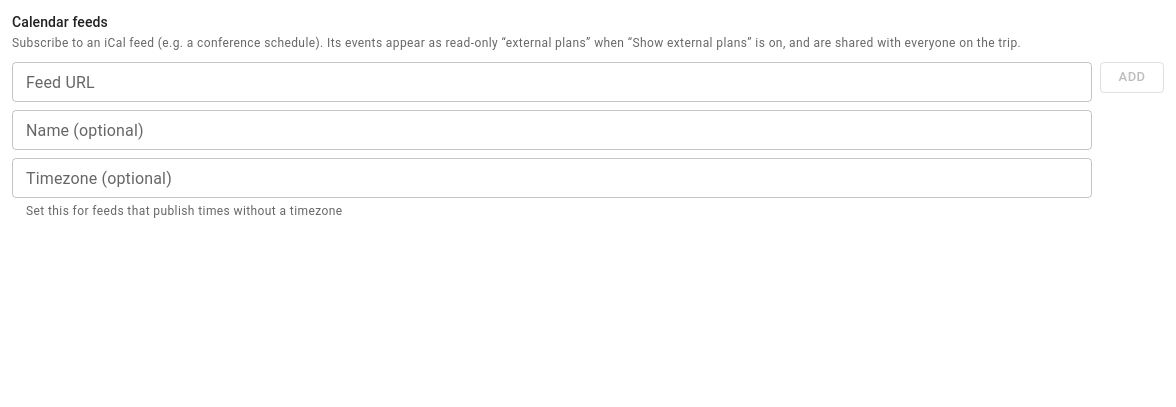
Test: TripFeedsEditor › adds a feed, appends it and clears the inputs
Expected: the button "Add" is disabled, x1=1100 y1=62 x2=1164 y2=93
Type "  https://new/c.ics  " into the field labelled "Feed URL" at point(552, 82), box x1=12 y1=62 x2=1092 y2=102
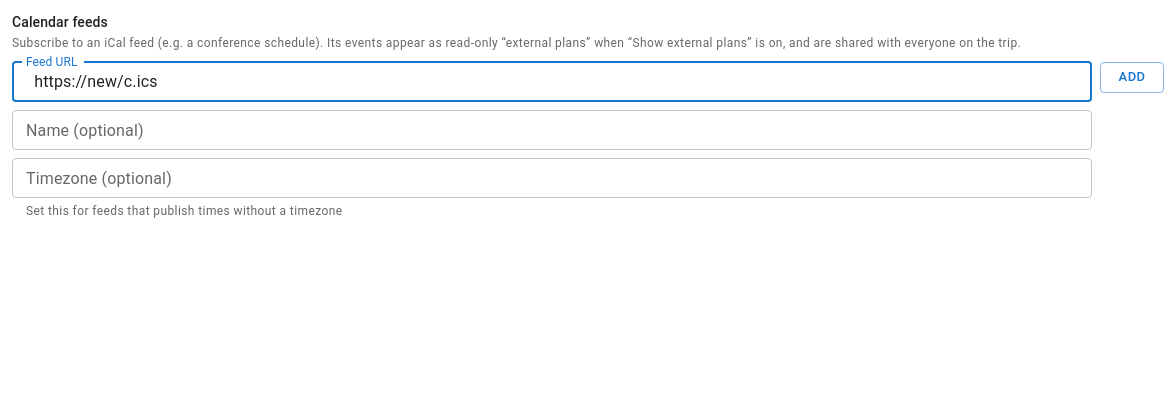
Type "New" into the field labelled "Name (optional)" at point(552, 130), box x1=12 y1=110 x2=1092 y2=150
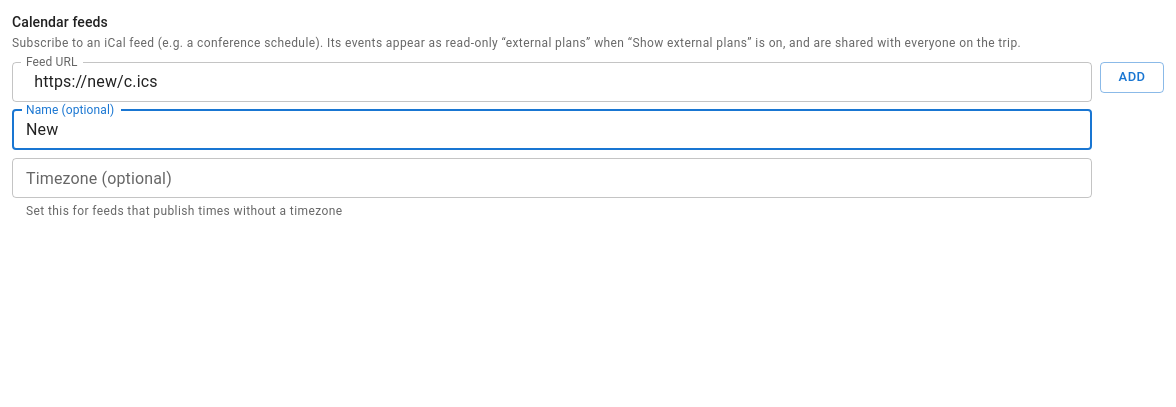
Click the button "Add" at point(1132, 77), box x1=1100 y1=62 x2=1164 y2=93
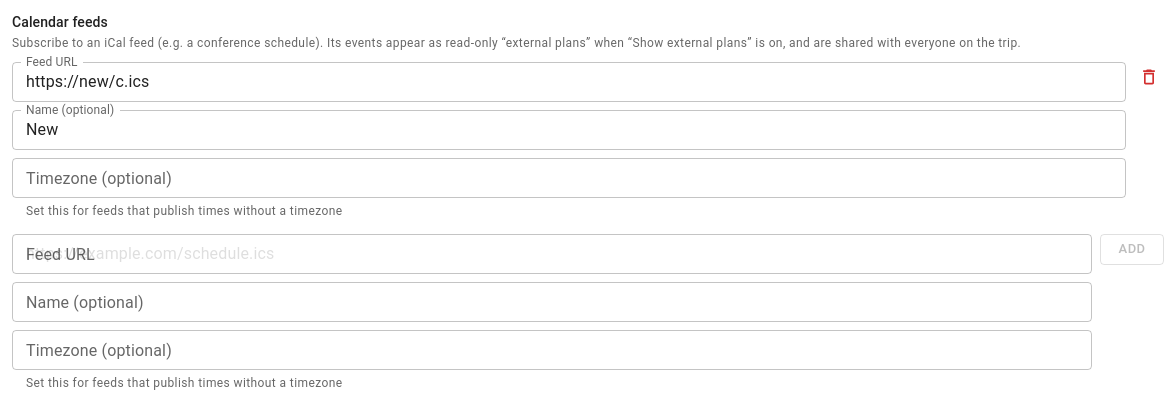
Expected: the 1st field showing "https://new/c.ics" is shown, x1=12 y1=62 x2=1126 y2=102
Expected: the 2nd field labelled "Feed URL" is empty, x1=12 y1=234 x2=1092 y2=274
Expected: the 2nd field labelled "Name (optional)" is empty, x1=12 y1=282 x2=1092 y2=322
